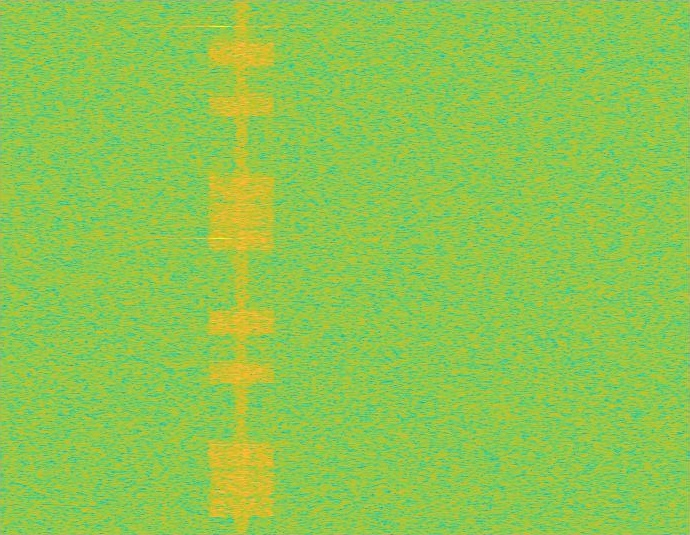DSSS: (234, 0, 249, 534)
LTE: (207, 0, 276, 534)
Radar: (213, 0, 227, 534)
